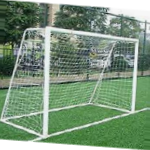goals: (1, 25, 141, 137)
